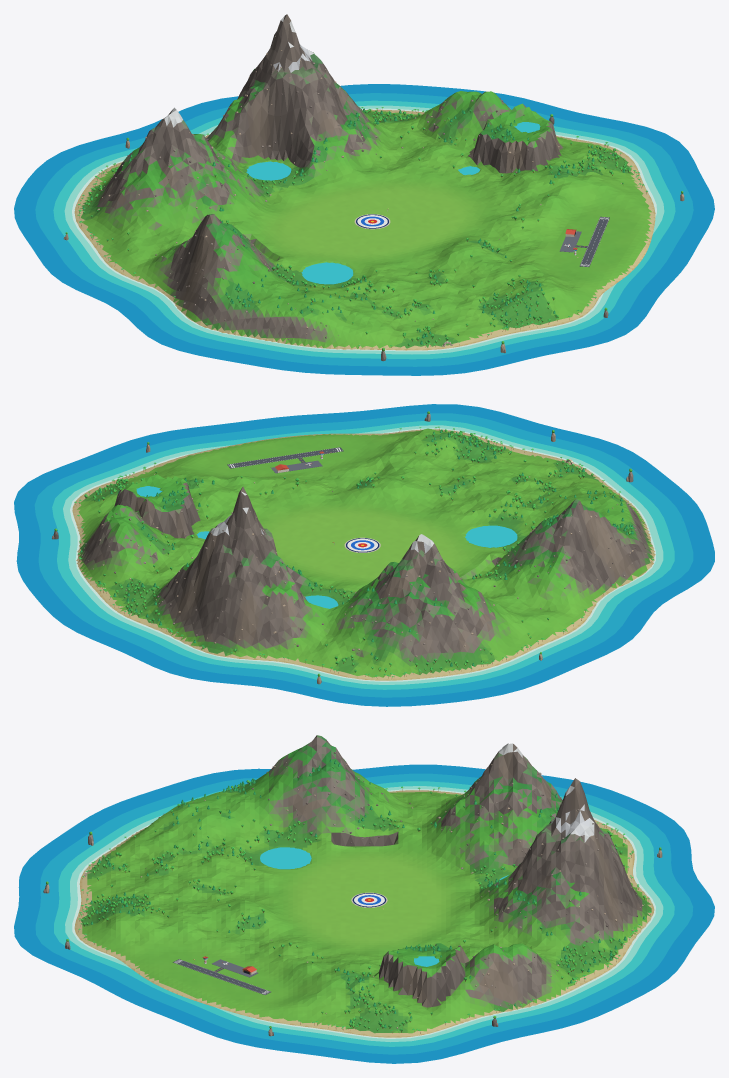
Rendered from skydrop_island.glb.
The picture shows the model from 3 angles, top to bottom: view 1: azimuth 30°, elevation 25°; view 2: azimuth 150°, elevation 25°; view 3: azimuth 270°, elevation 25°; orthographic projection.
Parts seen in each view (by area): view 1: Terrain_MainIsland, Shallows_MainIsland, Trees_Round_SW, Trees_Round_SE, Lake_West, Runway, Trees_Round_NE, Lake_NorthHigh, Trees_Pine_SW; view 2: Terrain_MainIsland, Shallows_MainIsland, Trees_Round_SW, Lake_West, Runway, Trees_Round_SE, Trees_Round_NE, Trees_Pine_SW, Trees_Round_NW; view 3: Terrain_MainIsland, Shallows_MainIsland, Trees_Round_SW, Trees_Round_SE, Lake_West, Runway, Trees_Round_NE, Trees_Pine_SW.
Part boxes in pixels (x1,y1,x2,y2): Terrain_MainIsland: [74, 14, 655, 350]; Shallows_MainIsland: [14, 84, 714, 375]; Trees_Round_SW: [227, 221, 508, 345]; Trees_Round_SE: [454, 159, 631, 324]; Lake_West: [301, 262, 353, 284]; Runway: [559, 216, 609, 266]; Trees_Round_NE: [358, 109, 625, 177]; Lake_NorthHigh: [246, 161, 291, 180]; Trees_Pine_SW: [220, 219, 507, 344]; Terrain_MainIsland: [72, 428, 655, 680]; Shallows_MainIsland: [14, 404, 714, 706]; Trees_Round_SW: [438, 446, 632, 567]; Lake_West: [465, 525, 517, 547]; Runway: [227, 447, 343, 473]; Trees_Round_SE: [106, 429, 496, 495]; Trees_Round_NE: [84, 484, 208, 622]; Trees_Pine_SW: [453, 446, 633, 566]; Trees_Round_NW: [233, 569, 549, 672]; Terrain_MainIsland: [74, 735, 654, 1037]; Shallows_MainIsland: [14, 764, 714, 1063]; Trees_Round_SW: [93, 766, 364, 903]; Trees_Round_SE: [80, 895, 370, 1029]; Lake_West: [260, 847, 311, 869]; Runway: [173, 959, 270, 994]; Trees_Round_NE: [368, 902, 623, 1032]; Trees_Pine_SW: [90, 759, 366, 903].
Size of what is drawn, in the model's own units: 2115 by 476 by 2093.
